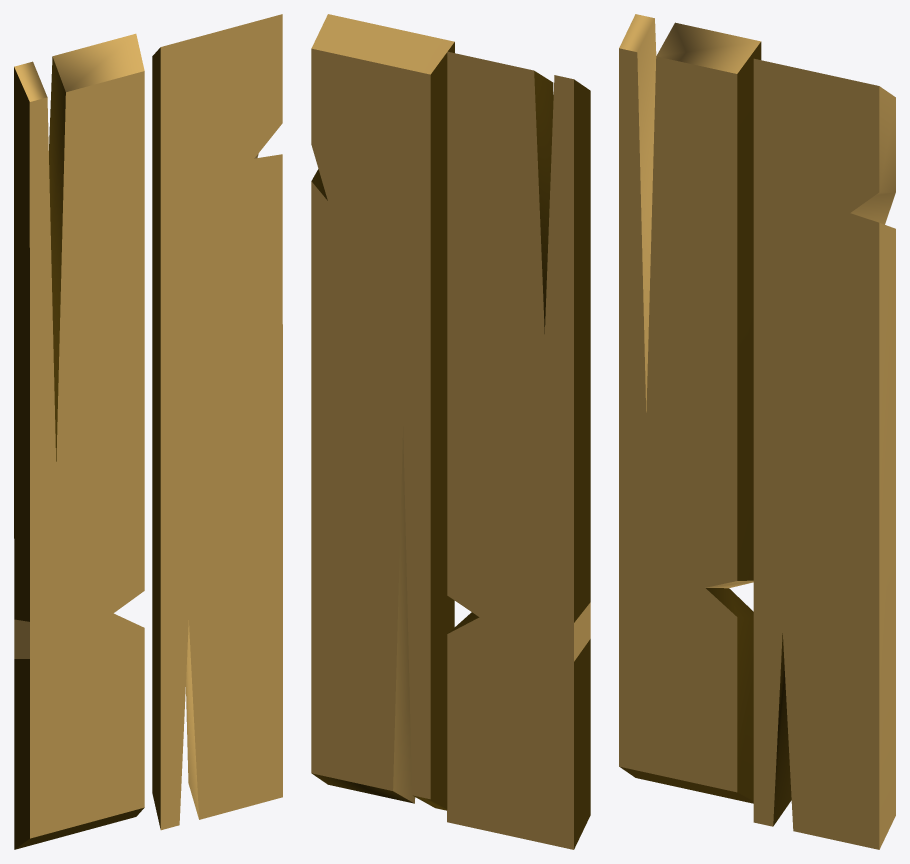
File: shackfront1.fbx
The picture shows the model from 3 angles, left to right: view 1: azimuth 30°, elevation 25°; view 2: azimuth 150°, elevation 25°; view 3: azimuth 330°, elevation 25°; orthographic projection. The views are drawn at different scales.
Parts seen in each view (by area): view 1: shackfront1; view 2: shackfront1; view 3: shackfront1.
Part boxes in pixels (x1,y1,x2,y2): shackfront1: (14,14,282,849); shackfront1: (311,14,590,849); shackfront1: (619,14,895,849).
Size of the model in its own units: 16.13 by 46.54 by 2.49.
